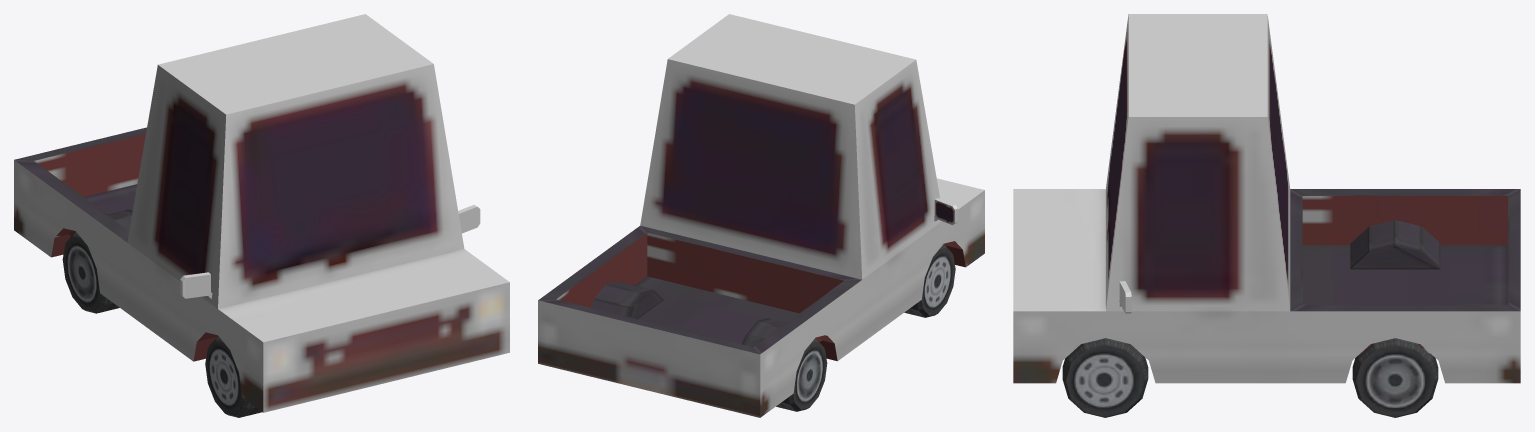
File: camioneta.glb
3 renders of one model, left to right at view 1: azimuth 30°, elevation 25°; view 2: azimuth 150°, elevation 25°; view 3: azimuth 270°, elevation 25°, orthographic. The views are drawn at different scales.
Visible parts, largest first — view 1: pickupTruck02, wheel_2, wheel_4; view 2: pickupTruck02, wheel_4, wheel_2; view 3: pickupTruck02, wheel_3, wheel.
Boxes of the visible parts, x1,y1,x2,y2 form: pickupTruck02: (14,14,509,412); wheel_2: (62,232,119,313); wheel_4: (205,336,261,417); pickupTruck02: (538,14,984,417); wheel_4: (904,244,955,317); wheel_2: (776,338,827,411); pickupTruck02: (1013,14,1520,383); wheel_3: (1062,338,1148,417); wheel: (1352,338,1438,417).
Size of the model in its own units: 2.42 by 2.25 by 3.5.
Materials: 1 (1 with a texture image).
